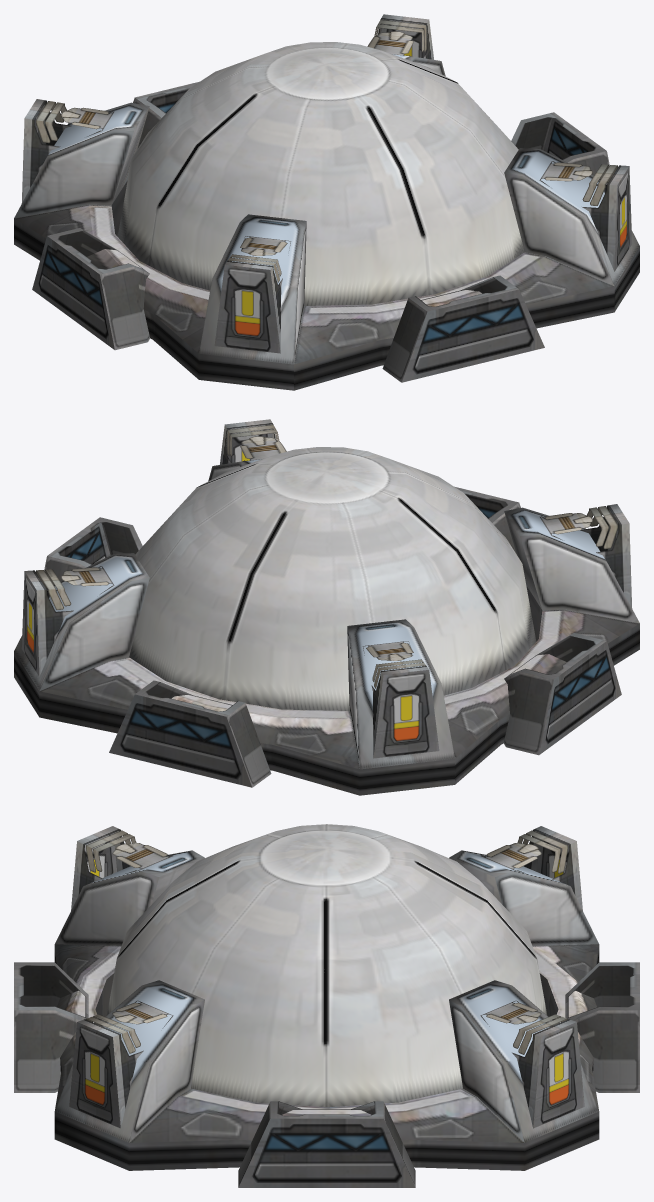
The model's file is doodad_aegis_armory.fbx.
3 renders of one model, top to bottom at view 1: azimuth 30°, elevation 25°; view 2: azimuth 150°, elevation 25°; view 3: azimuth 270°, elevation 25°, orthographic. The views are drawn at different scales.
Parts seen in each view (by area): view 1: body; view 2: body; view 3: body.
Boxes of the visible parts, left/top/right/bottom form: body: left=14, top=14, right=639, bottom=390; body: left=14, top=419, right=639, bottom=795; body: left=14, top=824, right=639, bottom=1187.
Size of the model in its own units: 1.99 by 0.7251 by 1.99.
1 material, 1 textured.
